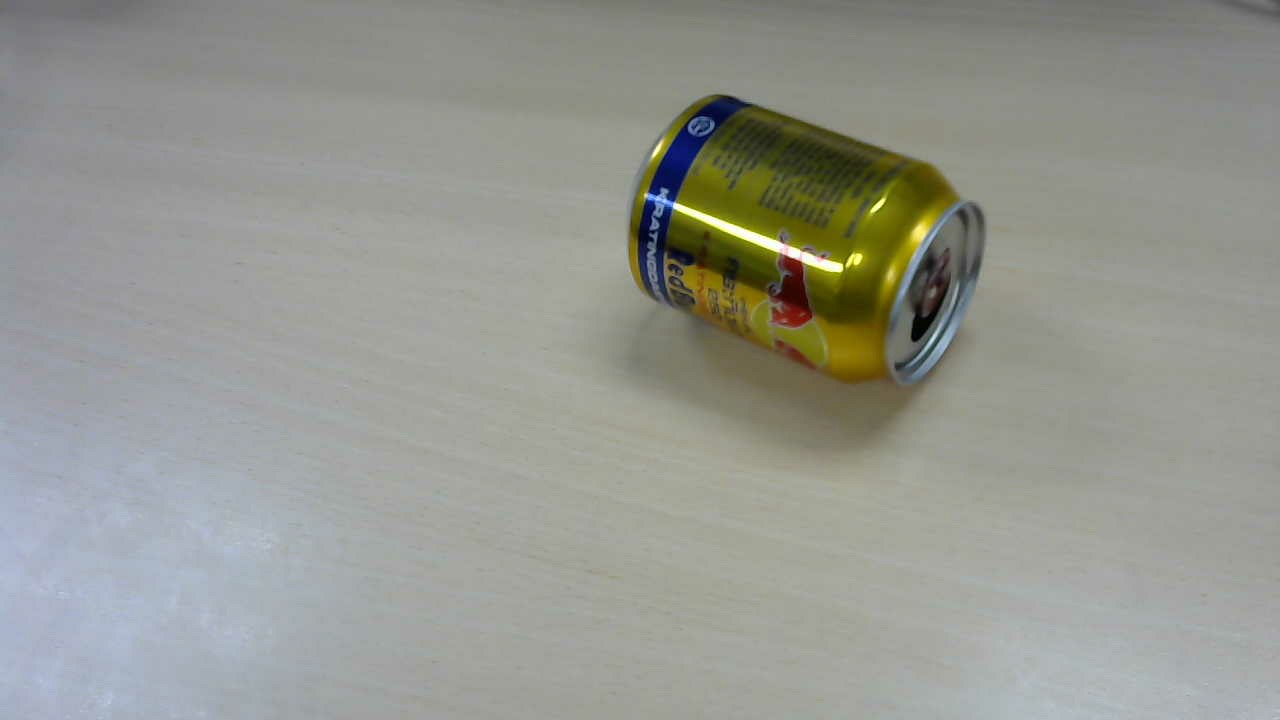Red_Bull: (630, 97, 993, 391)
